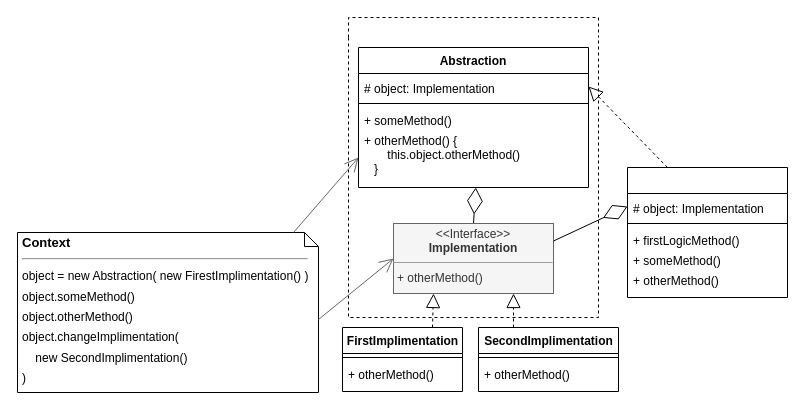
This 805x420 diagram has some shape labels left out. The shapes that lost their labels are listed below. From the top down, each one's box as (x1, y1, x2, y2) in pixels, then its label:
(348, 16, 598, 318): Bridge
(626, 166, 788, 298): FirstLogicAbstraction
